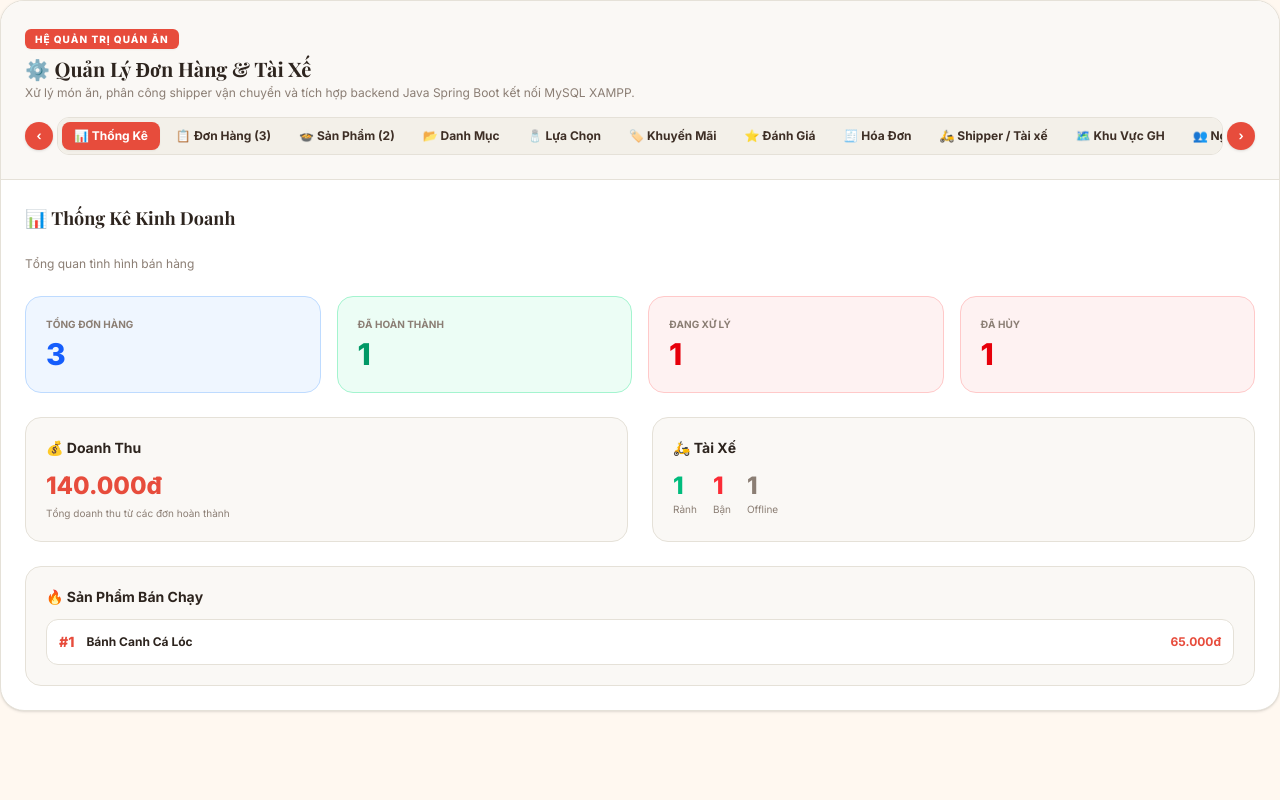
Test case: AdminDashboard › Orders tab › shows detail modal with order items when clicking Chi Tiết
This screenshot has width=1280, height=800.
Click the button "📋 Đơn Hàng (3)". click: (224, 136)
box: [164,122,283,150]
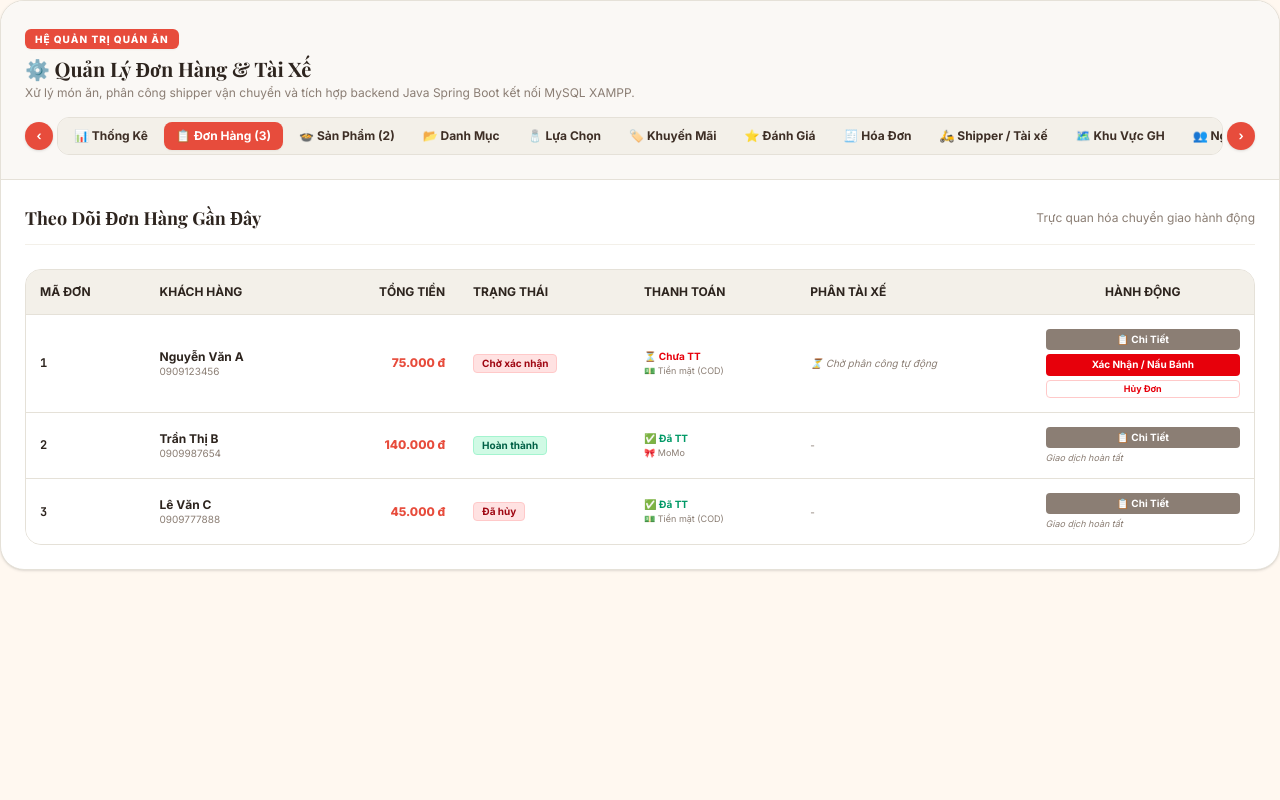
Click the 1st button "📋 Chi Tiết". click: (1143, 340)
box: [1046,329,1240,350]
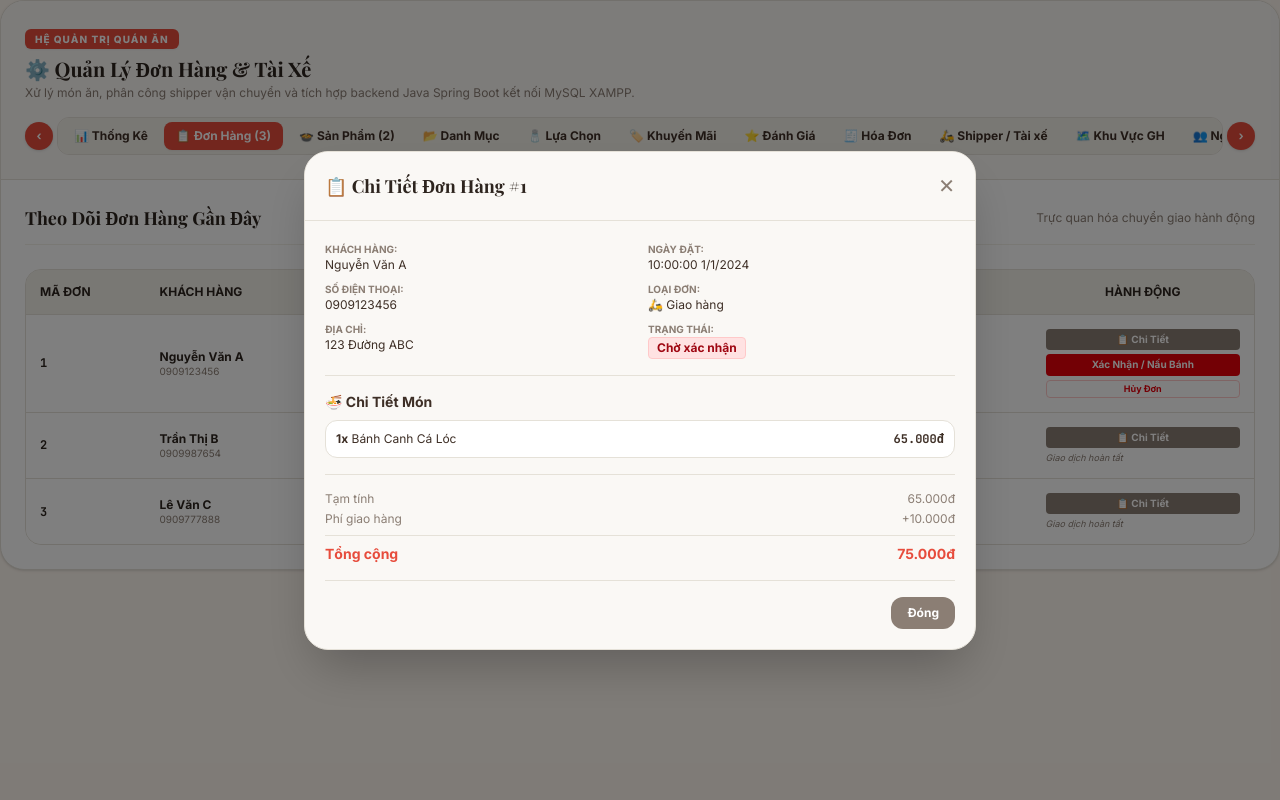
Result: the text "1x" is shown at [336,430,348,446]
Result: the text "1x Bánh Canh Cá Lóc" is shown at [336,430,456,446]
Result: the button "Đóng" is shown at [892,596,955,628]
